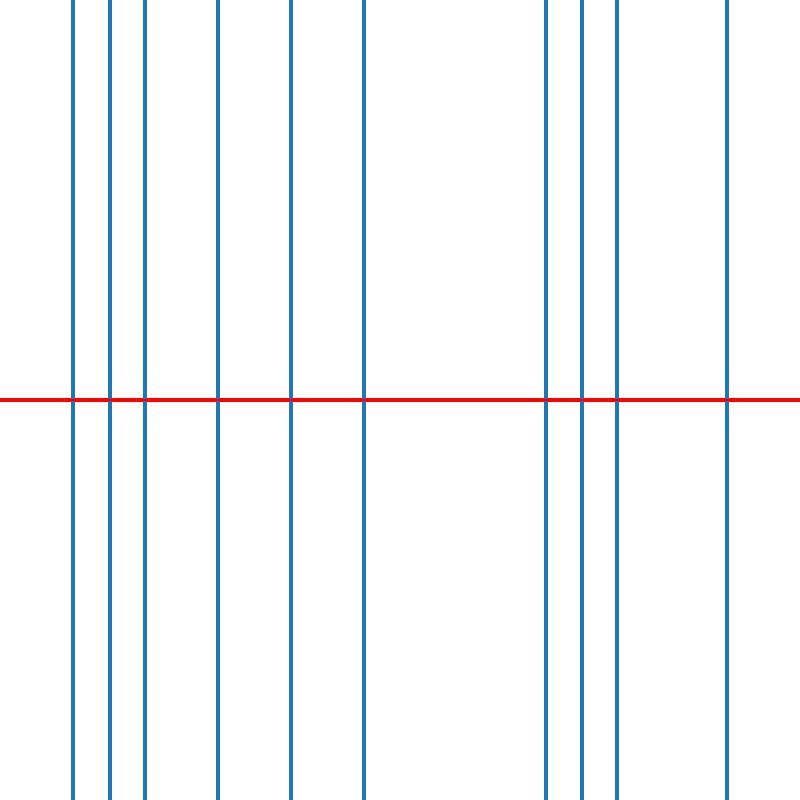root: (141, 396, 149, 404), (541, 396, 549, 404), (287, 396, 294, 404), (69, 396, 76, 404), (578, 396, 585, 404), (723, 396, 730, 404), (614, 396, 621, 404), (214, 396, 221, 404), (360, 396, 367, 404), (105, 396, 112, 404)
